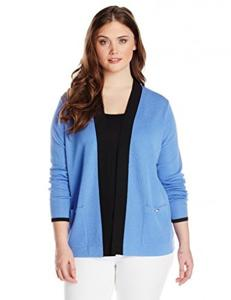S_cardigan sweater: (39, 81, 189, 263)
